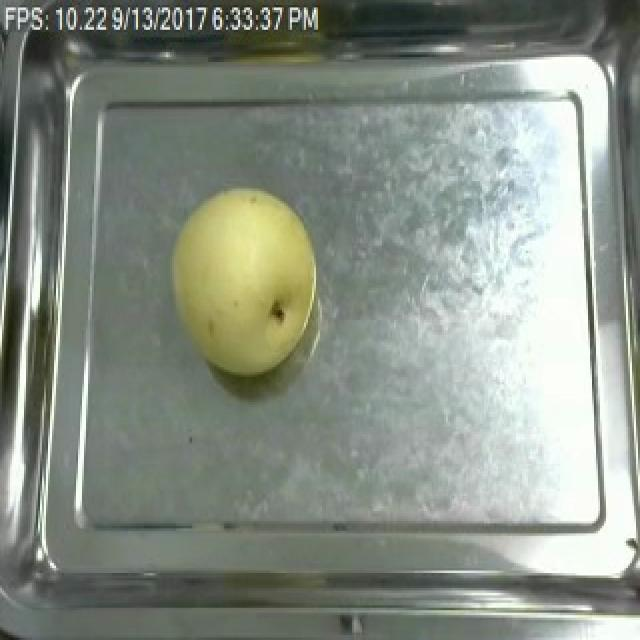Fruit: (162, 179, 326, 382)
